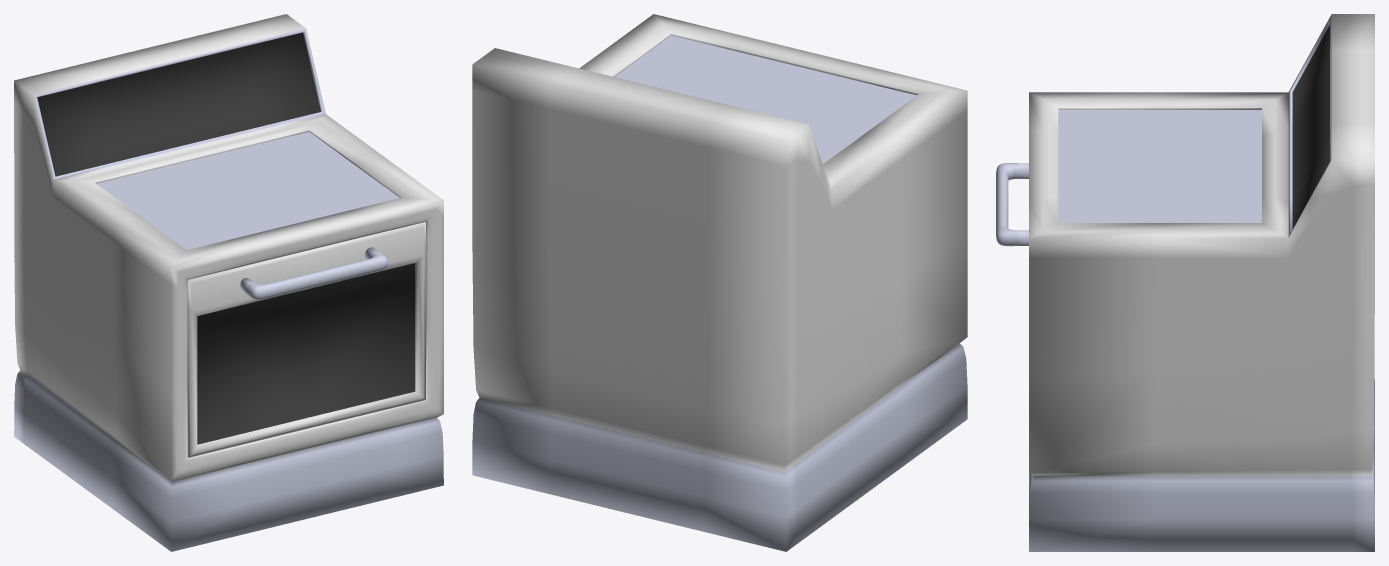
The model's file is Oven.fbx.
The picture shows the model from 3 angles, left to right: view 1: azimuth 30°, elevation 25°; view 2: azimuth 150°, elevation 25°; view 3: azimuth 270°, elevation 25°; orthographic projection. The views are drawn at different scales.
Visible parts, largest first — view 1: Oven, OvenDoor, OvenTop.R, OvenTop.L; view 2: Oven, OvenTop.L, OvenTop.R; view 3: Oven, OvenTop.L, OvenTop.R, OvenDoor.
Part boxes in pixels (x1,y1,x2,y2): Oven: [14, 14, 443, 551]; OvenDoor: [187, 222, 425, 457]; OvenTop.R: [202, 132, 399, 224]; OvenTop.L: [96, 158, 291, 249]; Oven: [472, 14, 967, 551]; OvenTop.L: [739, 66, 916, 163]; OvenTop.R: [615, 35, 794, 107]; Oven: [1029, 14, 1374, 551]; OvenTop.L: [1058, 110, 1261, 167]; OvenTop.R: [1058, 167, 1261, 222]; OvenDoor: [996, 163, 1028, 246].
Bounding box in the file's own units: 200 × 250 × 219.
